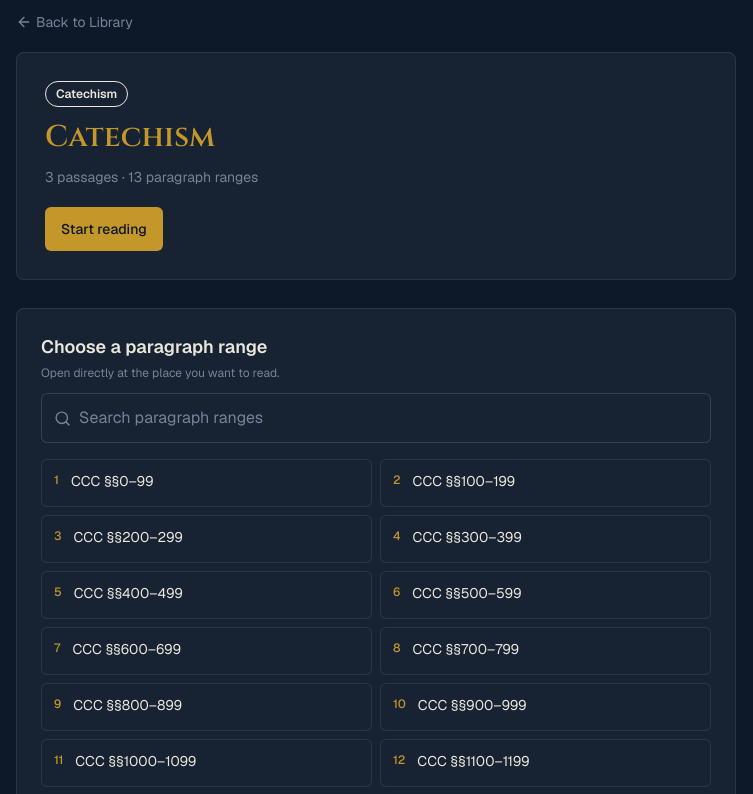
Test: DocumentReader overview › uses source-specific searchable section language and preserves original numbering
Expected: the heading "Choose a paragraph range" is shown, x1=41 y1=335 x2=267 y2=358
Step 1. Type "1200" into the search field labelled "Search paragraph ranges" → (388, 418), box x1=79 y1=394 x2=698 y2=442
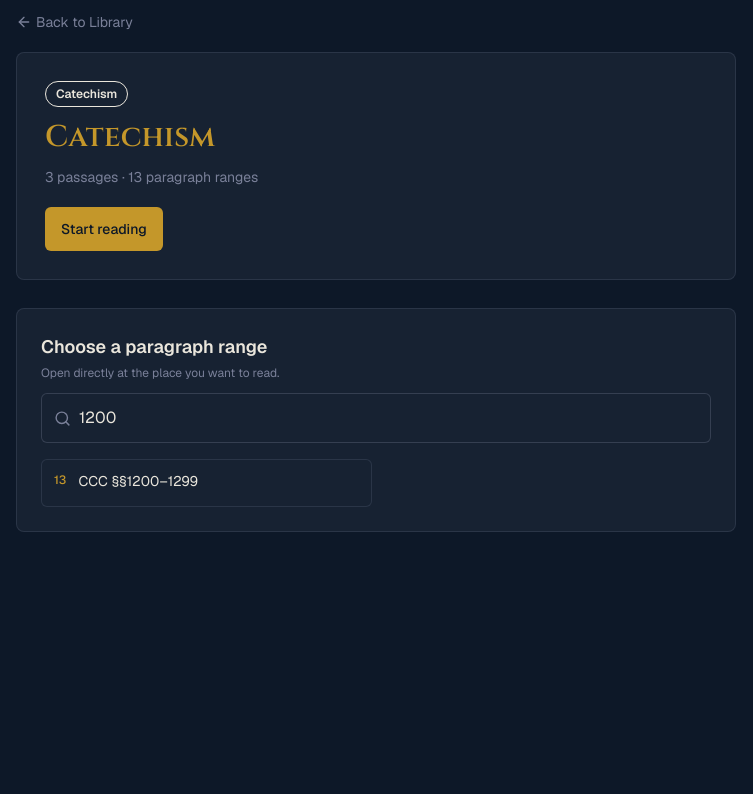
Expected: the text "13" is shown, x1=54 y1=472 x2=66 y2=488
Result: the button "CCC §§0–99" is gone
Step 2. Replace the text in the search field named "Search paragraph ranges" with "1250" → (388, 418), box x1=79 y1=394 x2=698 y2=442
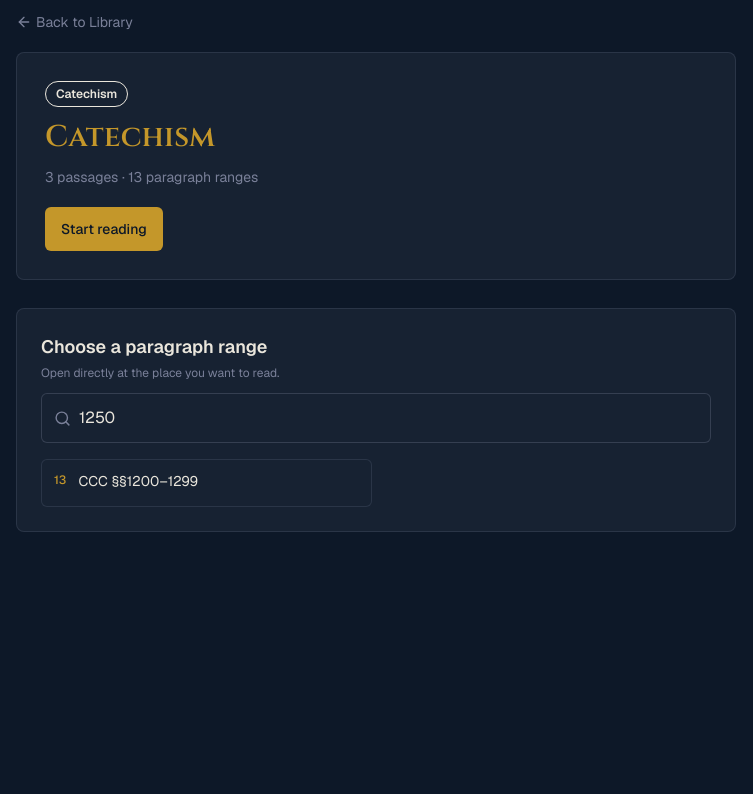
Expected: the text "CCC §§1200–1299" is shown, x1=78 y1=472 x2=198 y2=491
Step 3. Replace the text in the search field named "Search paragraph ranges" with "99" → (388, 418), box x1=79 y1=394 x2=698 y2=442
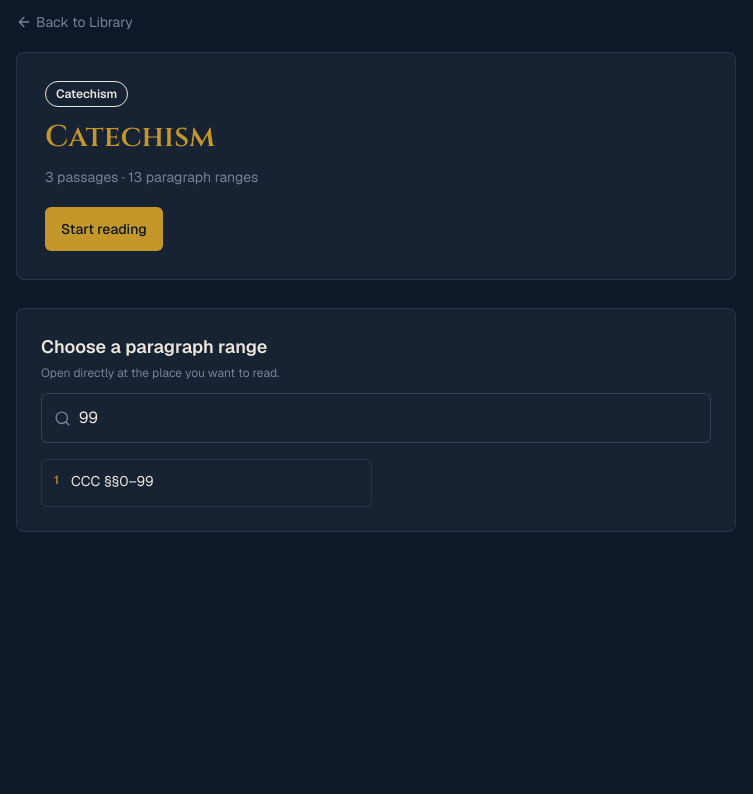
Expected: the button "CCC §§900–999" is not shown
Result: the text "CCC §§0–99" is shown at x1=71 y1=472 x2=154 y2=491
